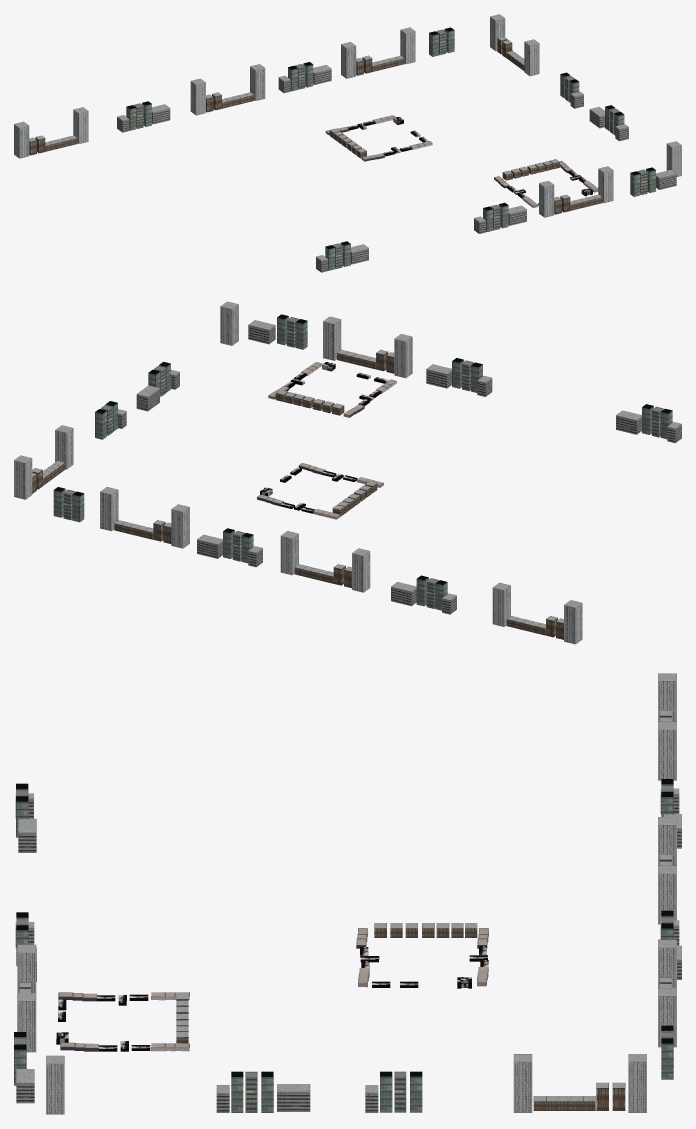
The model's file is Props2.fbx.
3 views of the same model, one above another, from view 1: azimuth 30°, elevation 25°; view 2: azimuth 150°, elevation 25°; view 3: azimuth 270°, elevation 25° (orthographic). The views are drawn at different scales.
Visible parts, largest first — view 1: Combined Diffuse Mesh.001; view 2: Combined Diffuse Mesh.001; view 3: Combined Diffuse Mesh.001.
Part boxes in pixels (x1,y1,x2,y2): Combined Diffuse Mesh.001: (14,14,681,272); Combined Diffuse Mesh.001: (14,301,681,644); Combined Diffuse Mesh.001: (14,673,681,1114).
Size of the model in its own units: 929 by 56.87 by 672.
